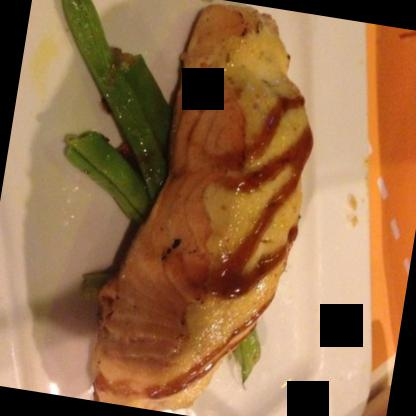salmon: (81, 0, 332, 415)
